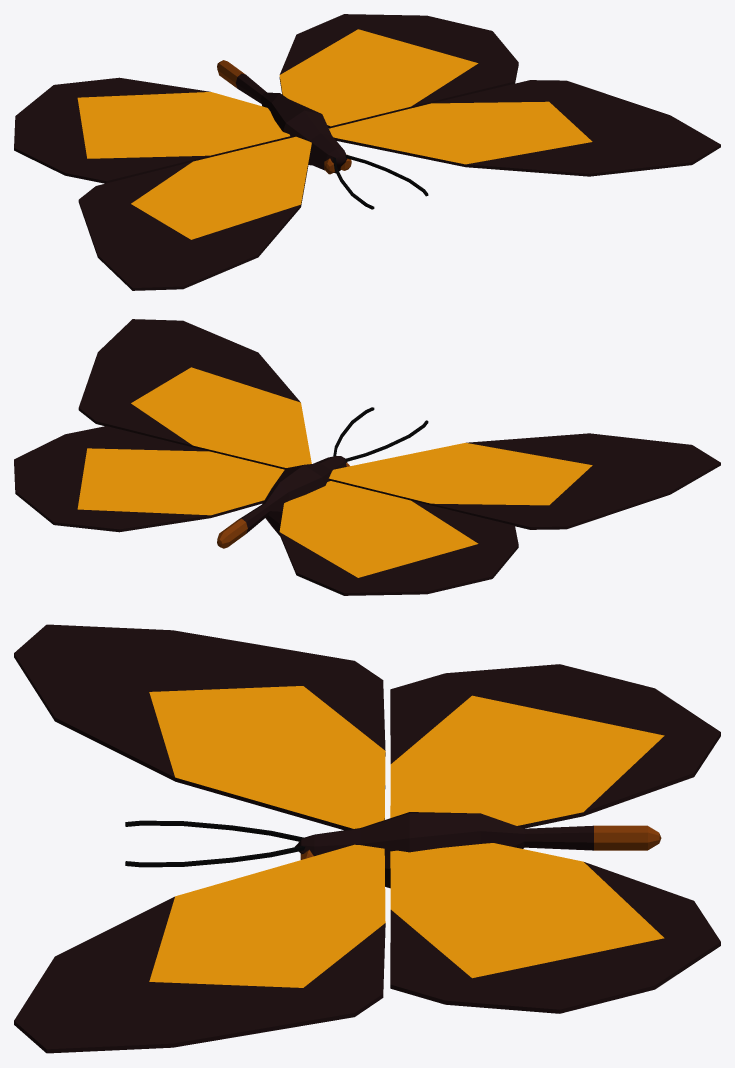
The model's file is Mesh_Butterfly.obj.
The picture shows the model from 3 angles, top to bottom: view 1: azimuth 30°, elevation 25°; view 2: azimuth 150°, elevation 25°; view 3: azimuth 270°, elevation 25°; orthographic projection. The views are drawn at different scales.
Visible parts, largest first — view 1: Geo_Butterfly; view 2: Geo_Butterfly; view 3: Geo_Butterfly.
Part boxes in pixels (x1,y1,x2,y2): Geo_Butterfly: (14, 14, 720, 290); Geo_Butterfly: (14, 319, 720, 595); Geo_Butterfly: (14, 624, 720, 1053).
Size of the model in its own units: 93.61 by 8.2 by 65.83.
1 material, 1 textured.
